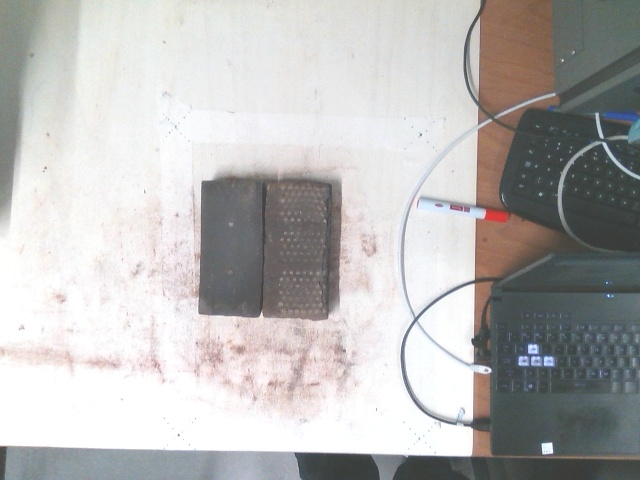brick: (197, 177, 260, 317)
brick-side: (262, 175, 329, 320)
